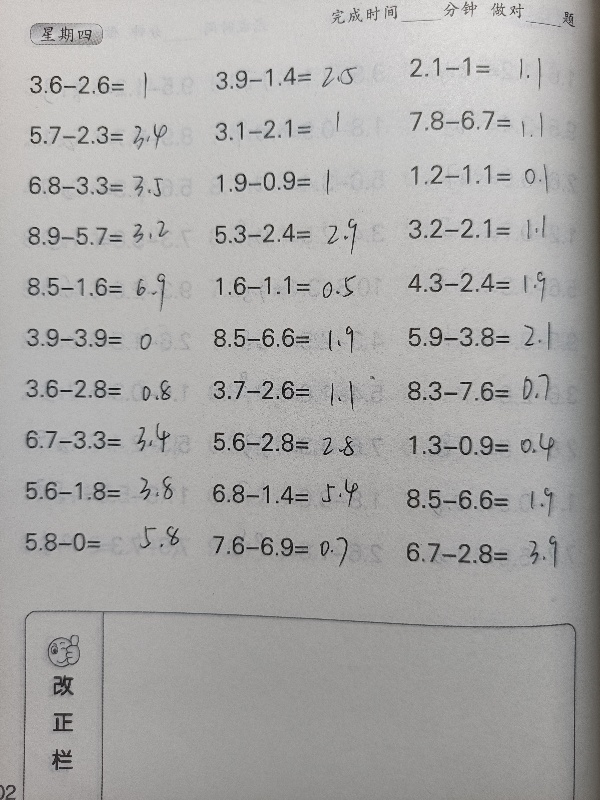equation: (1, 602, 175, 800), (204, 528, 384, 574), (203, 468, 383, 512), (400, 422, 580, 465), (204, 424, 384, 466), (398, 366, 578, 408), (397, 481, 577, 522), (21, 116, 201, 157), (400, 102, 580, 142), (207, 268, 387, 306), (19, 215, 199, 252), (21, 168, 201, 205), (397, 534, 577, 570), (204, 371, 384, 407), (400, 319, 580, 355), (399, 210, 579, 246), (207, 60, 387, 96), (206, 320, 386, 355), (400, 265, 580, 300), (206, 215, 386, 250), (208, 164, 388, 199), (402, 157, 582, 192), (17, 525, 197, 559), (17, 474, 197, 508), (16, 422, 196, 456), (18, 371, 198, 405), (19, 320, 199, 354), (19, 270, 199, 304), (206, 113, 386, 147), (22, 68, 202, 102), (402, 51, 582, 85)
